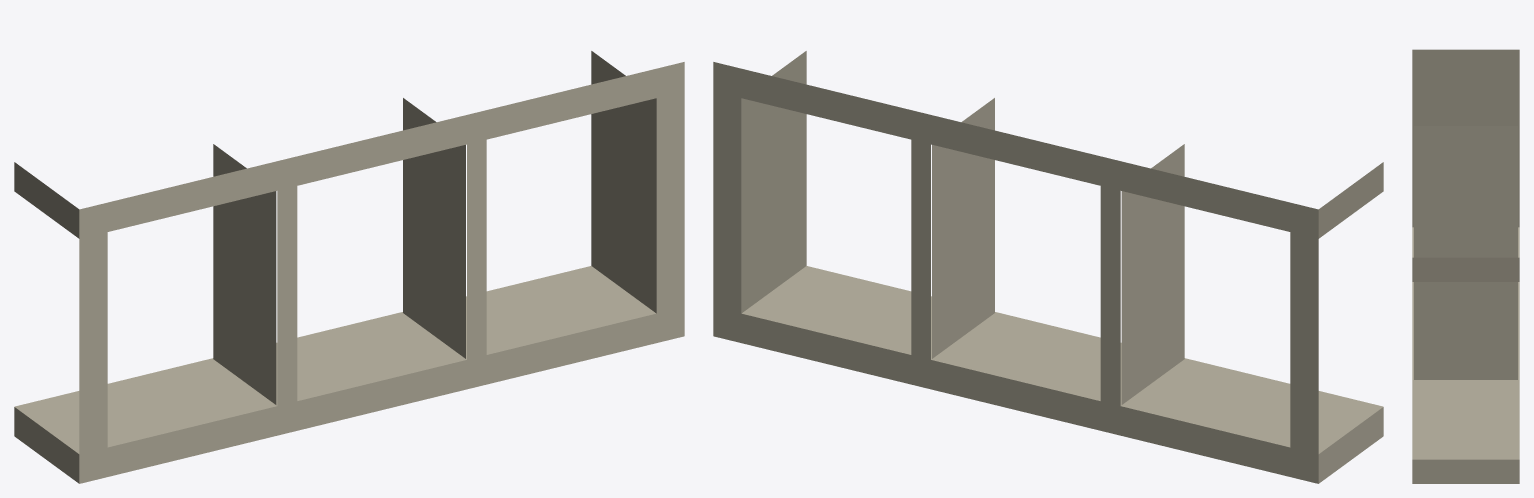
The model's file is window.leaded_band.open.glb.
3 renders of one model, left to right at view 1: azimuth 30°, elevation 25°; view 2: azimuth 150°, elevation 25°; view 3: azimuth 270°, elevation 25°, orthographic. The views are drawn at different scales.
Parts seen in each view (by area): view 1: window_leaded_band_open; view 2: window_leaded_band_open; view 3: window_leaded_band_open.
Boxes of the visible parts, <box> form: window_leaded_band_open: <box>14,51,684,483</box>; window_leaded_band_open: <box>713,51,1383,483</box>; window_leaded_band_open: <box>1412,49,1519,483</box>.
Size of what is drawn, in the model's own units: 3 by 1.3 by 0.56.
